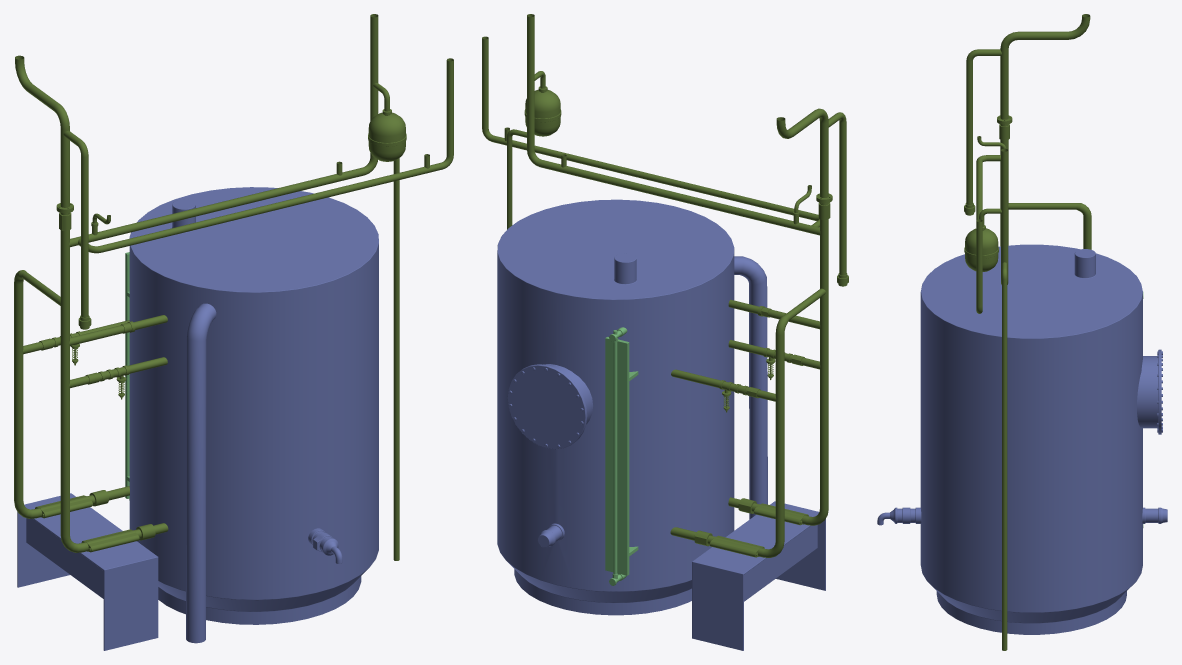
File: AdditionalWaterContainer.fbx
3 views of the same model, side by side, from view 1: azimuth 30°, elevation 25°; view 2: azimuth 150°, elevation 25°; view 3: azimuth 270°, elevation 25° (orthographic). The views are drawn at different scales.
Parts seen in each view (by area): view 1: AWC_Frame, AWC_Outflow-3, AWC_Outflow-4, AWC_Main-6, AWC_Outflow-6, AWC_Main-2, AWC_Outflow-1, AWC_Outflow-2, AWC_Main-3, AWC_Main-5, WaterLevel-Meter, AWC_Main-10 (+2 smaller); view 2: AWC_Frame, WaterLevel-Meter, AWC_Outflow-3, AWC_Outflow-4, AWC_Main-2, AWC_Main-6, AWC_Main-3, AWC_Outflow-1, AWC_Outflow-2, WaterLevel-Pipe, AWC_Main-1, AWC_Main-5 (+3 smaller); view 3: AWC_Frame, AWC_Outflow-3, AWC_Outflow-6, AWC_Outflow-2, AWC_Outflow-1, AWC_Outflow-4, AWC_Main-3.
Part boxes in pixels (bbox=[...]): AWC_Frame: bbox=[17, 187, 378, 650]; AWC_Outflow-3: bbox=[69, 14, 406, 247]; AWC_Outflow-4: bbox=[78, 58, 453, 253]; AWC_Main-6: bbox=[60, 397, 168, 552]; AWC_Outflow-6: bbox=[393, 158, 399, 560]; AWC_Main-2: bbox=[14, 392, 129, 518]; AWC_Outflow-1: bbox=[63, 130, 91, 329]; AWC_Outflow-2: bbox=[15, 55, 69, 207]; AWC_Main-3: bbox=[14, 270, 60, 393]; AWC_Main-5: bbox=[69, 357, 167, 399]; WaterLevel-Meter: bbox=[125, 252, 129, 500]; AWC_Main-10: bbox=[56, 203, 73, 287]; AWC_Frame: bbox=[497, 199, 825, 650]; WaterLevel-Meter: bbox=[605, 327, 638, 585]; AWC_Outflow-3: bbox=[524, 14, 820, 235]; AWC_Outflow-4: bbox=[482, 36, 819, 227]; AWC_Main-2: bbox=[670, 438, 784, 557]; AWC_Main-6: bbox=[728, 377, 828, 525]; AWC_Main-3: bbox=[775, 288, 825, 439]; AWC_Outflow-1: bbox=[828, 112, 848, 286]; AWC_Outflow-2: bbox=[776, 108, 828, 197]; WaterLevel-Pipe: bbox=[613, 330, 617, 574]; AWC_Main-1: bbox=[671, 369, 776, 412]; AWC_Main-5: bbox=[728, 339, 820, 379]; AWC_Frame: bbox=[877, 244, 1167, 634]; AWC_Outflow-3: bbox=[964, 136, 1008, 284]; AWC_Outflow-6: bbox=[1002, 262, 1007, 650]; AWC_Outflow-2: bbox=[1000, 14, 1090, 119]; AWC_Outflow-1: bbox=[964, 49, 1001, 215]; AWC_Outflow-4: bbox=[976, 155, 1000, 313]; AWC_Main-3: bbox=[1008, 203, 1091, 249].
Size of the model in its own units: 212 by 292 by 157.
